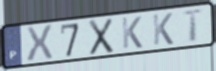7: (59, 22, 81, 58)
K: (120, 15, 144, 50), (151, 11, 175, 46)
T: (181, 8, 206, 44)
X: (24, 23, 55, 64), (88, 16, 115, 57)
